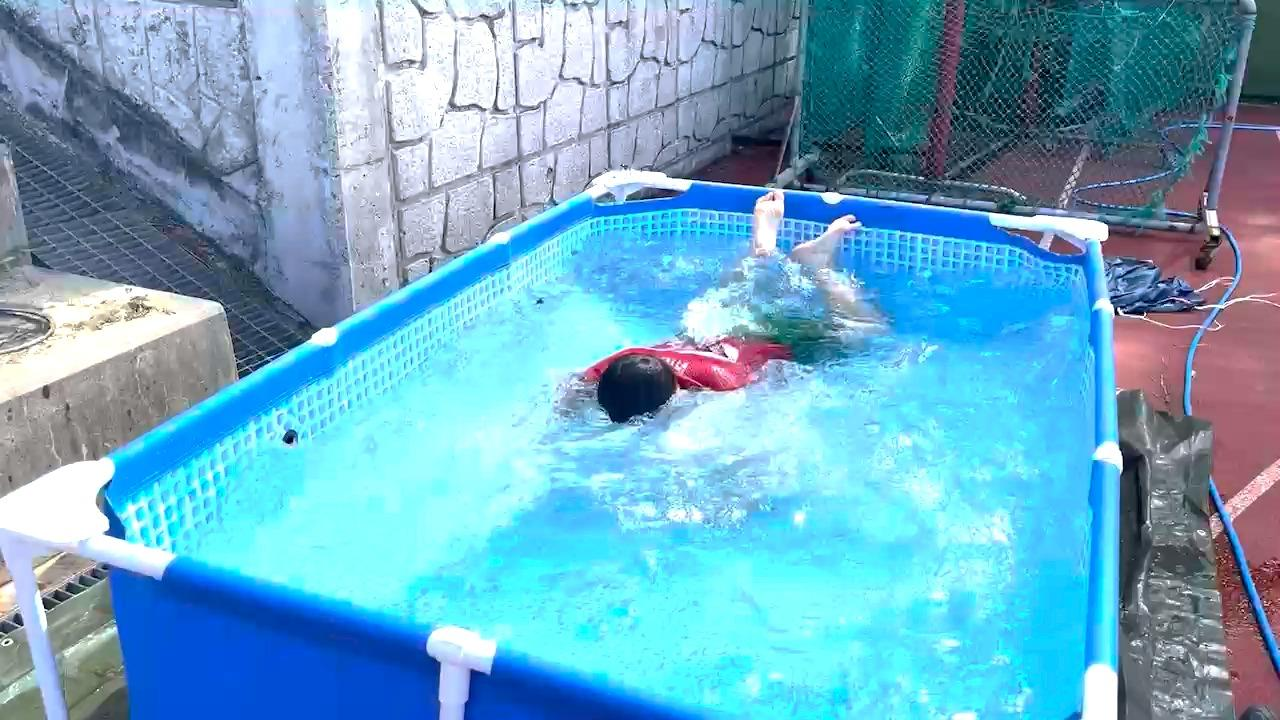Drowning: (553, 200, 875, 455)
